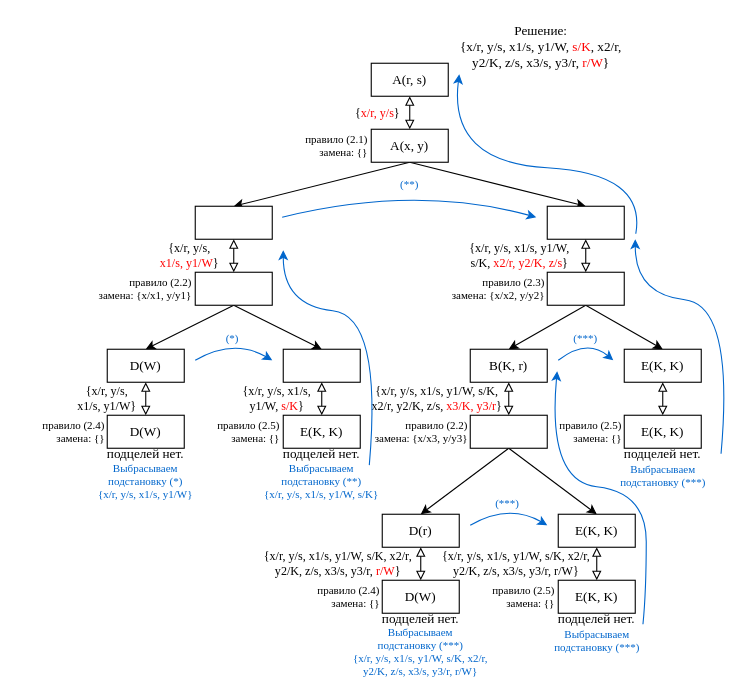
This 744x697 diagram has some shape labels left out. Each missing label, with the box of its shape:
B(s, W): (194, 205, 272, 239)
B(x1, y1): (194, 271, 272, 305)
B(x3, y3): (469, 414, 547, 448)
C(r, K, s): (546, 205, 624, 239)
C(x2, y2, z): (546, 271, 624, 305)
E(s, K): (282, 348, 360, 382)
